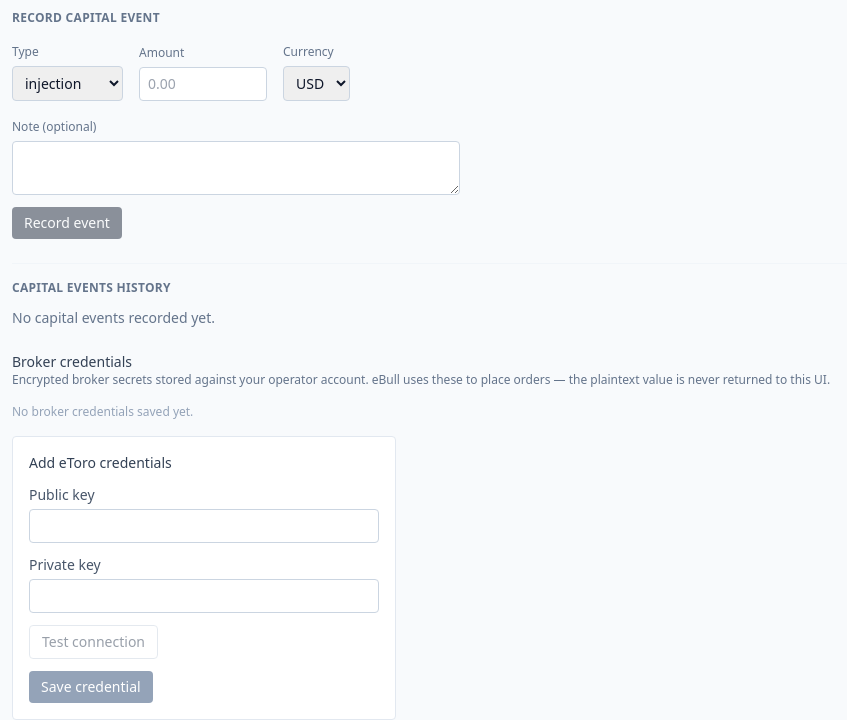
Scenario: SettingsPage — backend failure › surfaces a 409 conflict and does NOT open the modal
(page scrolled)
Expected: the text "No broker credentials saved yet." is shown, x1=12 y1=403 x2=193 y2=420
Type "test-api-key" into the password field labelled "Public key" at coordinates (204, 526), box x1=29 y1=509 x2=379 y2=543
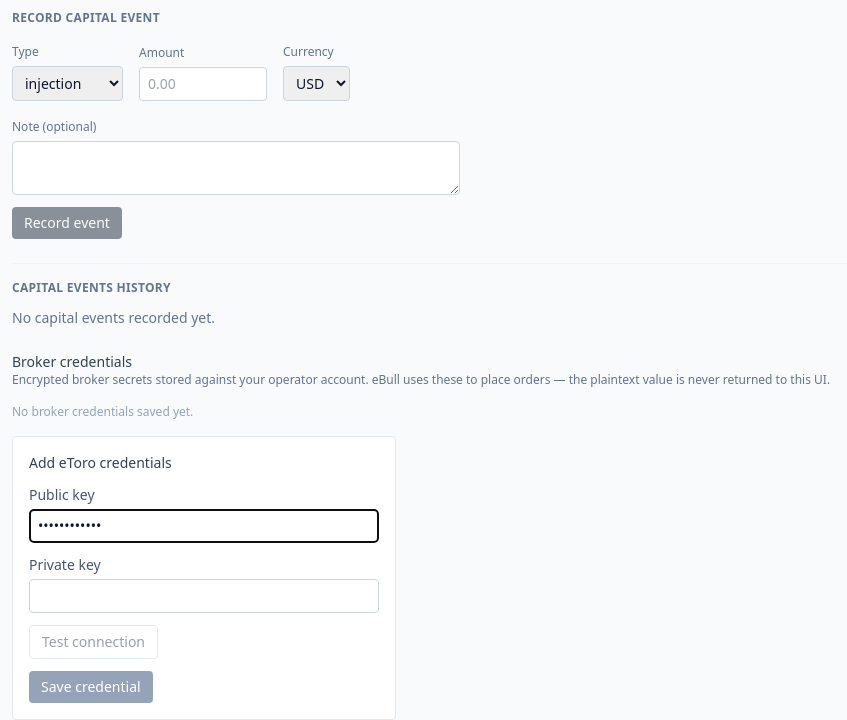
Type "test-user-key" into the password field labelled "Private key" at coordinates (204, 596), box x1=29 y1=579 x2=379 y2=613
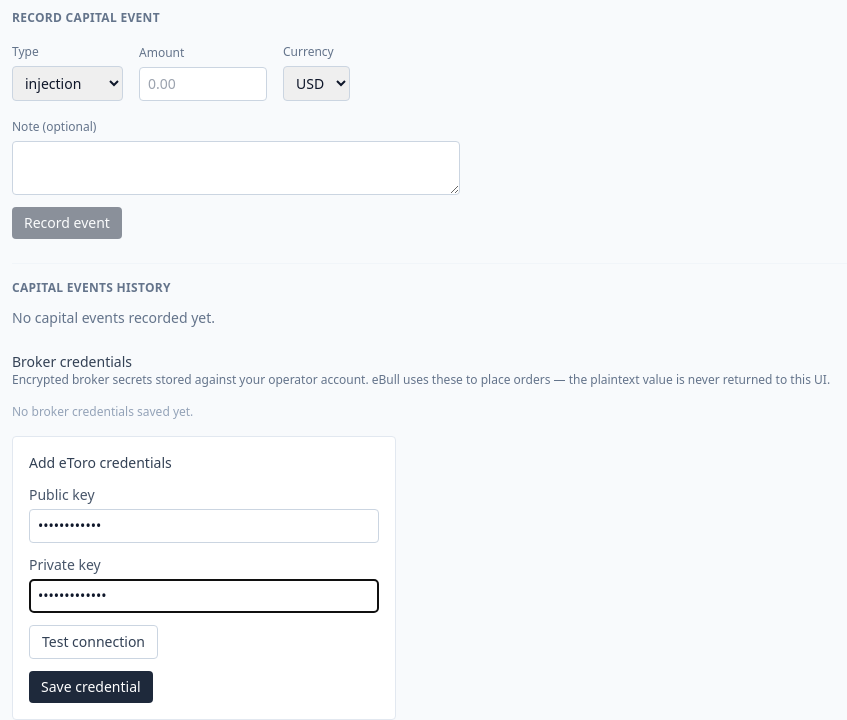
Click the button "Save credential" at coordinates (91, 687), box x1=29 y1=671 x2=153 y2=703
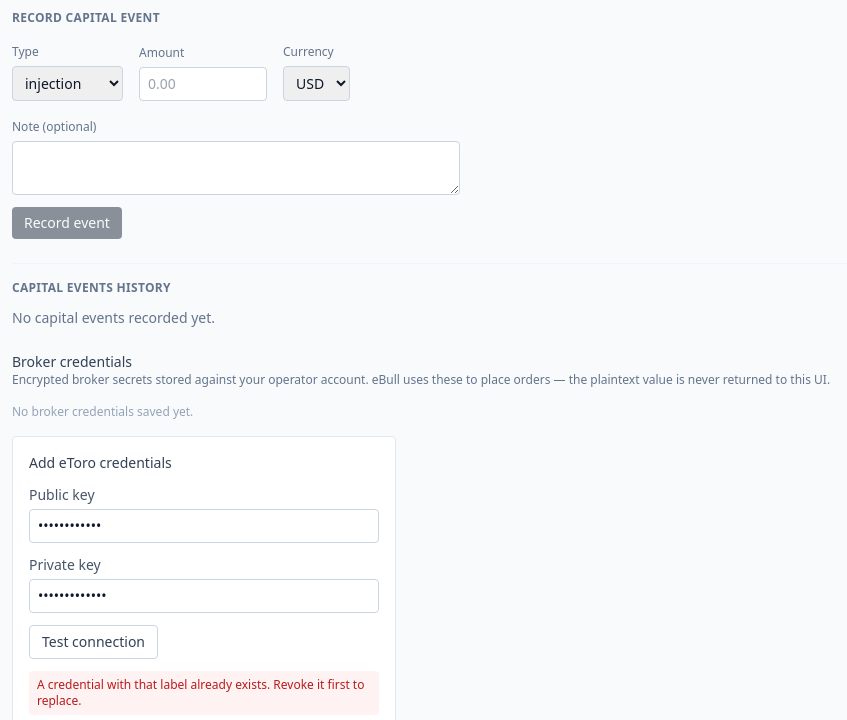
Now the text "A credential with that label already exists. Revoke it first to replace." is shown, box x1=29 y1=671 x2=379 y2=715
